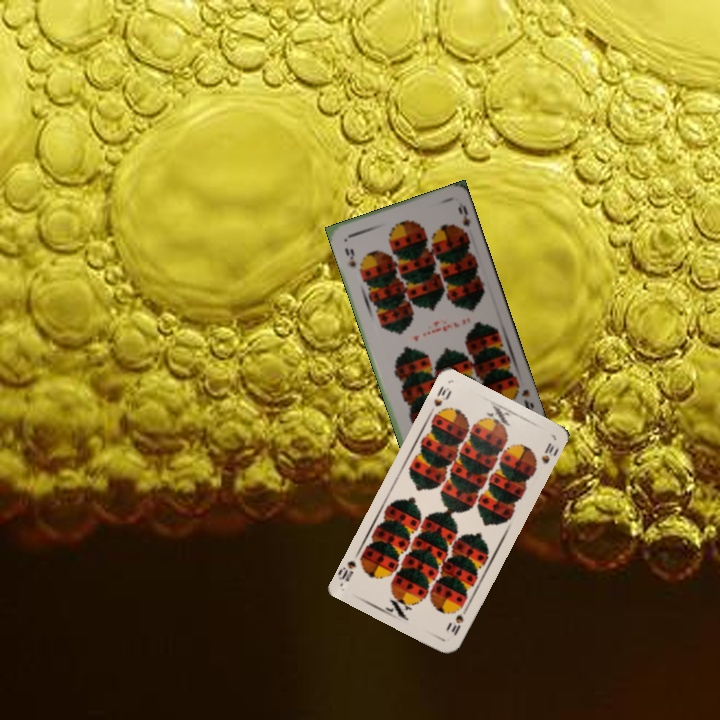S10: (425, 382, 454, 418), (447, 610, 466, 638)
S9: (510, 377, 536, 412), (341, 244, 358, 270)
